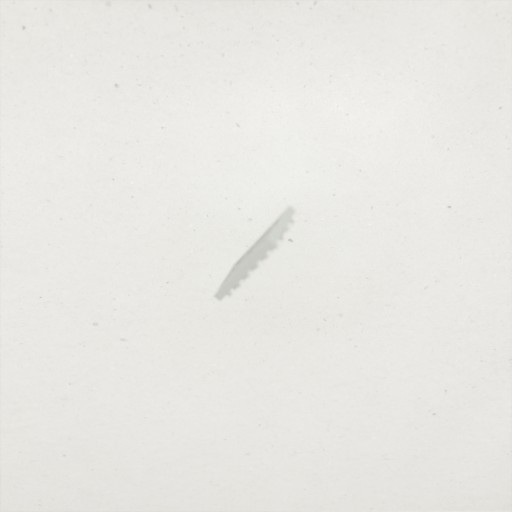lego: (213, 205, 297, 302)
